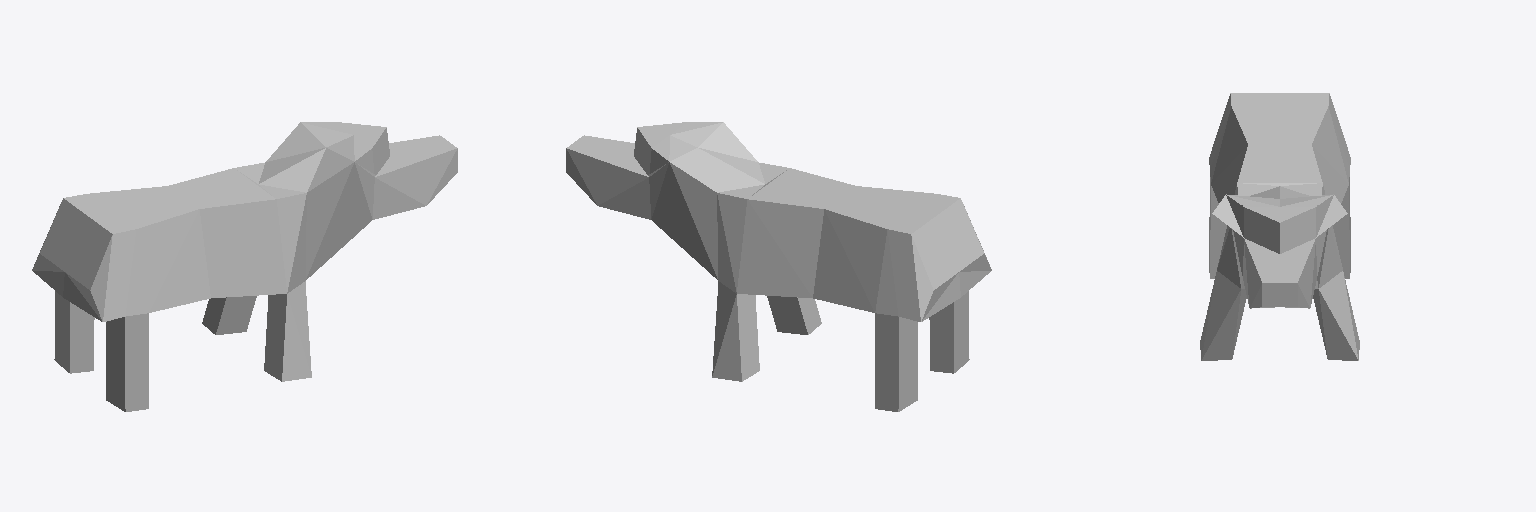
Rendered from wolf.obj.
The picture shows the model from 3 angles: view 1: azimuth 30°, elevation 25°; view 2: azimuth 150°, elevation 25°; view 3: azimuth 270°, elevation 25°; orthographic projection.
Parts seen in each view (by area): view 1: Cube; view 2: Cube; view 3: Cube.
Part boxes in pixels (left/top/right/bottom): Cube: left=32, top=122, right=457, bottom=411; Cube: left=566, top=122, right=991, bottom=411; Cube: left=1200, top=93, right=1359, bottom=360.
Size of the model in its own units: 12.36 by 5.94 by 4.44.